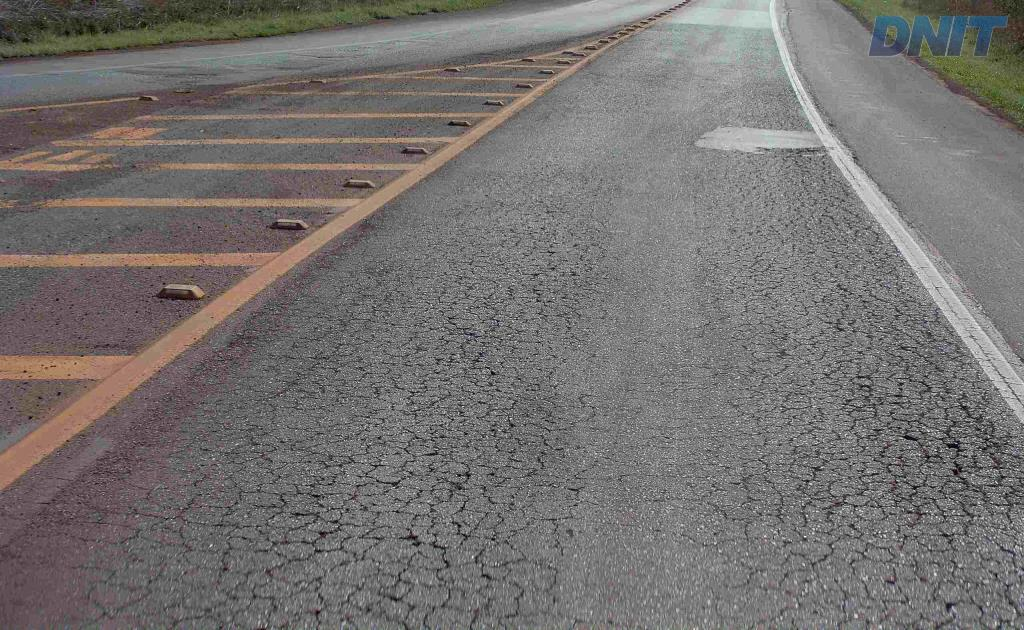crack: (938, 454, 1023, 524), (287, 507, 359, 565), (869, 471, 933, 534), (429, 470, 480, 549), (32, 499, 121, 541), (210, 495, 241, 590)
